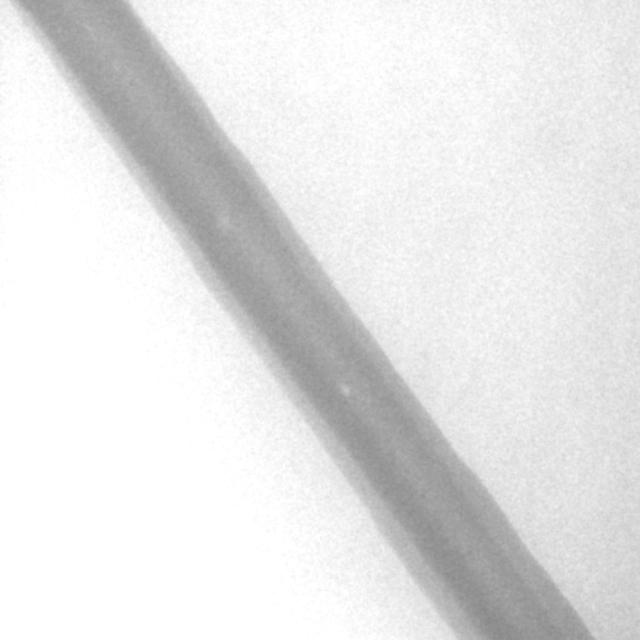air hole: (337, 381, 353, 397)
